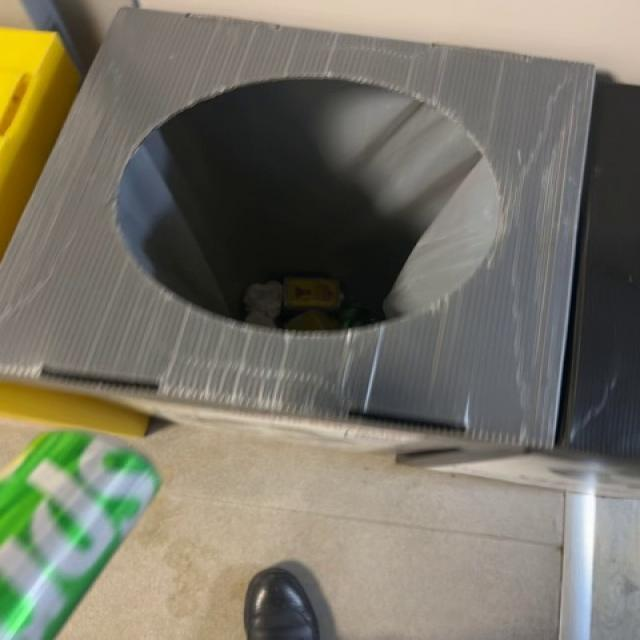Bin: (3, 9, 596, 450)
Metal: (1, 431, 160, 640)
